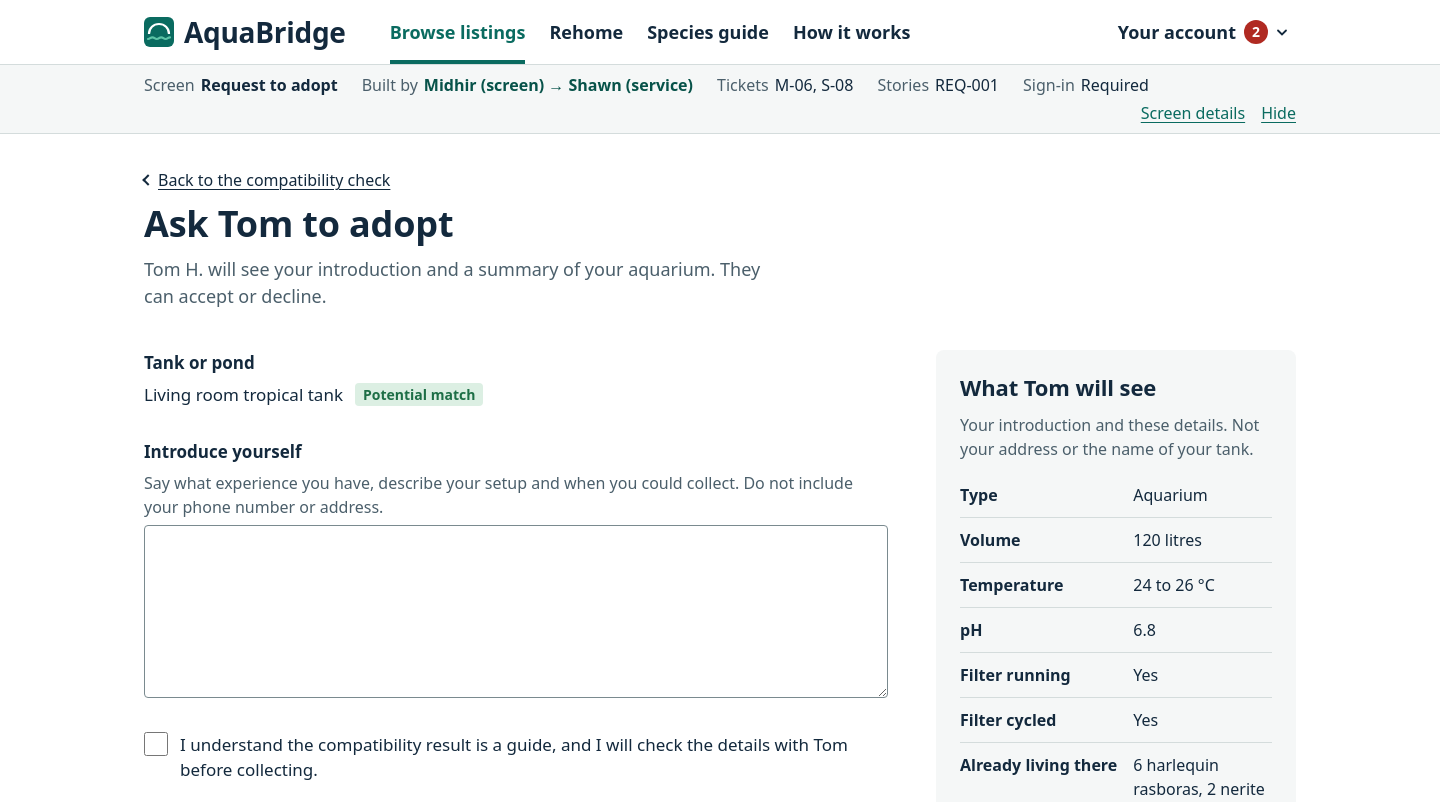
App › a valid request ends on a confirmation page with a reference
This screenshot has width=1440, height=802.
In the text box labelled "Introduce yourself": (516, 611) [144, 525, 888, 698], type "Hello Tom, I have a heated 120 litre tank ready for them."
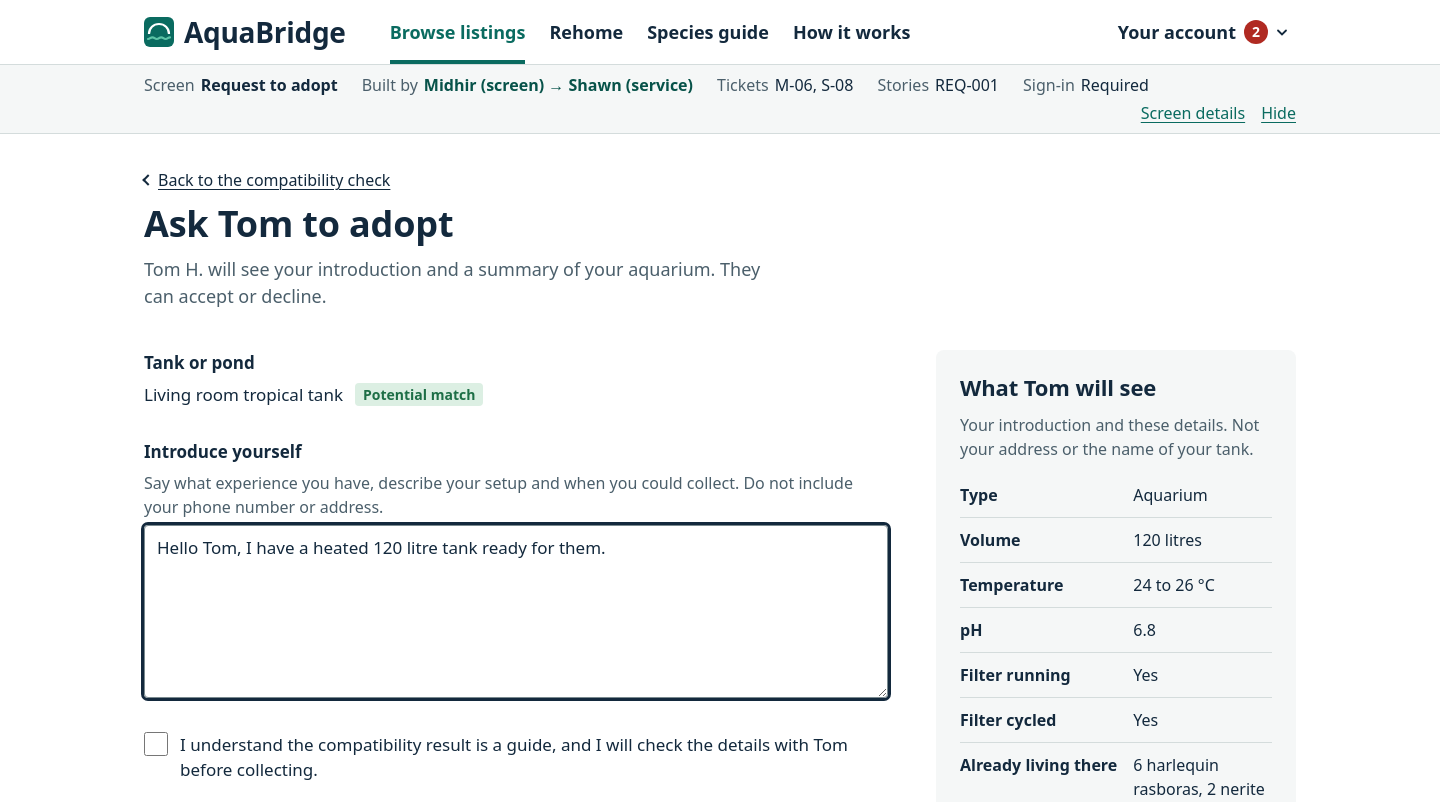
Click the checkbox labelled "I understand": (156, 744) [144, 732, 168, 756]
(page scrolled)
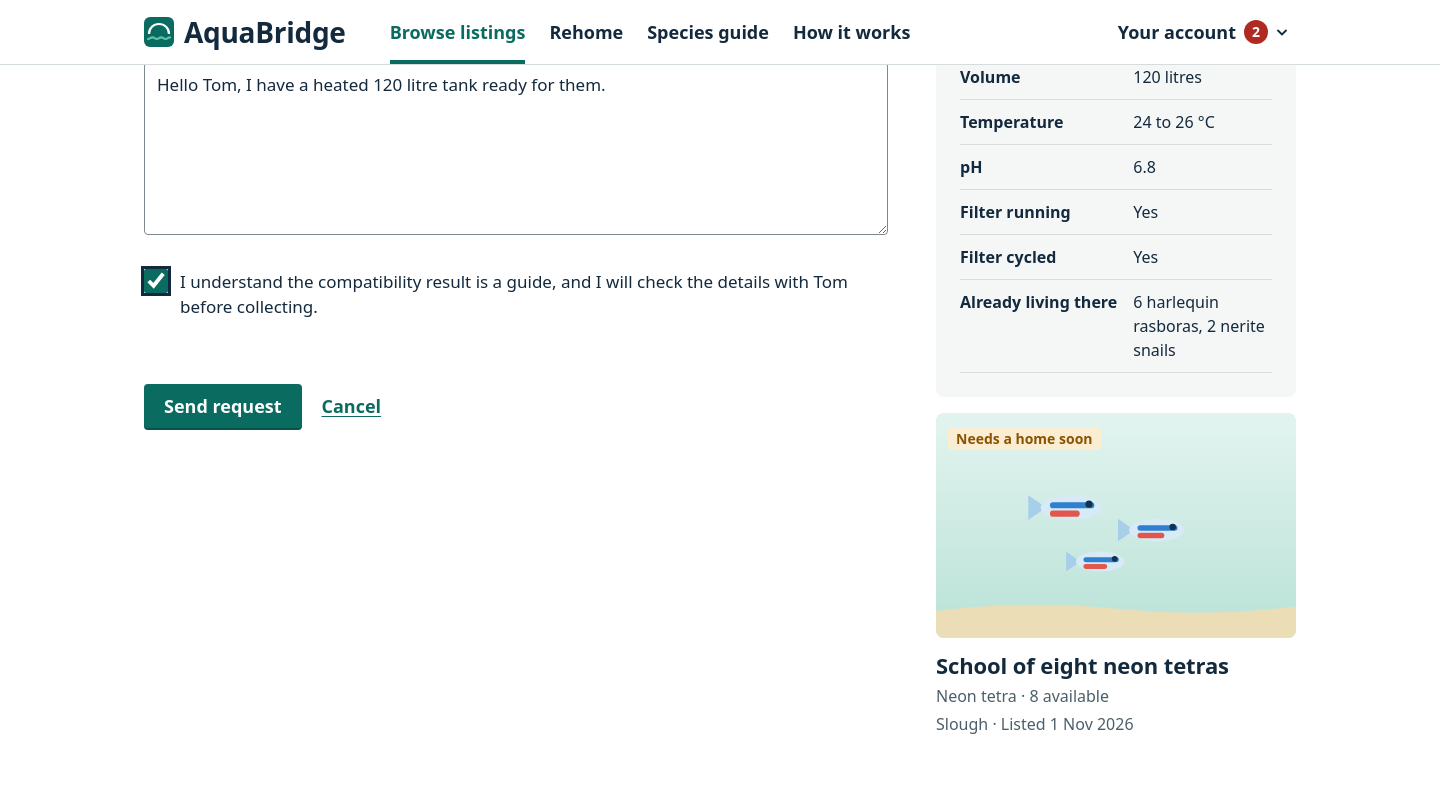
Click the button "Send request": (223, 406) [144, 384, 302, 428]
(page scrolled)
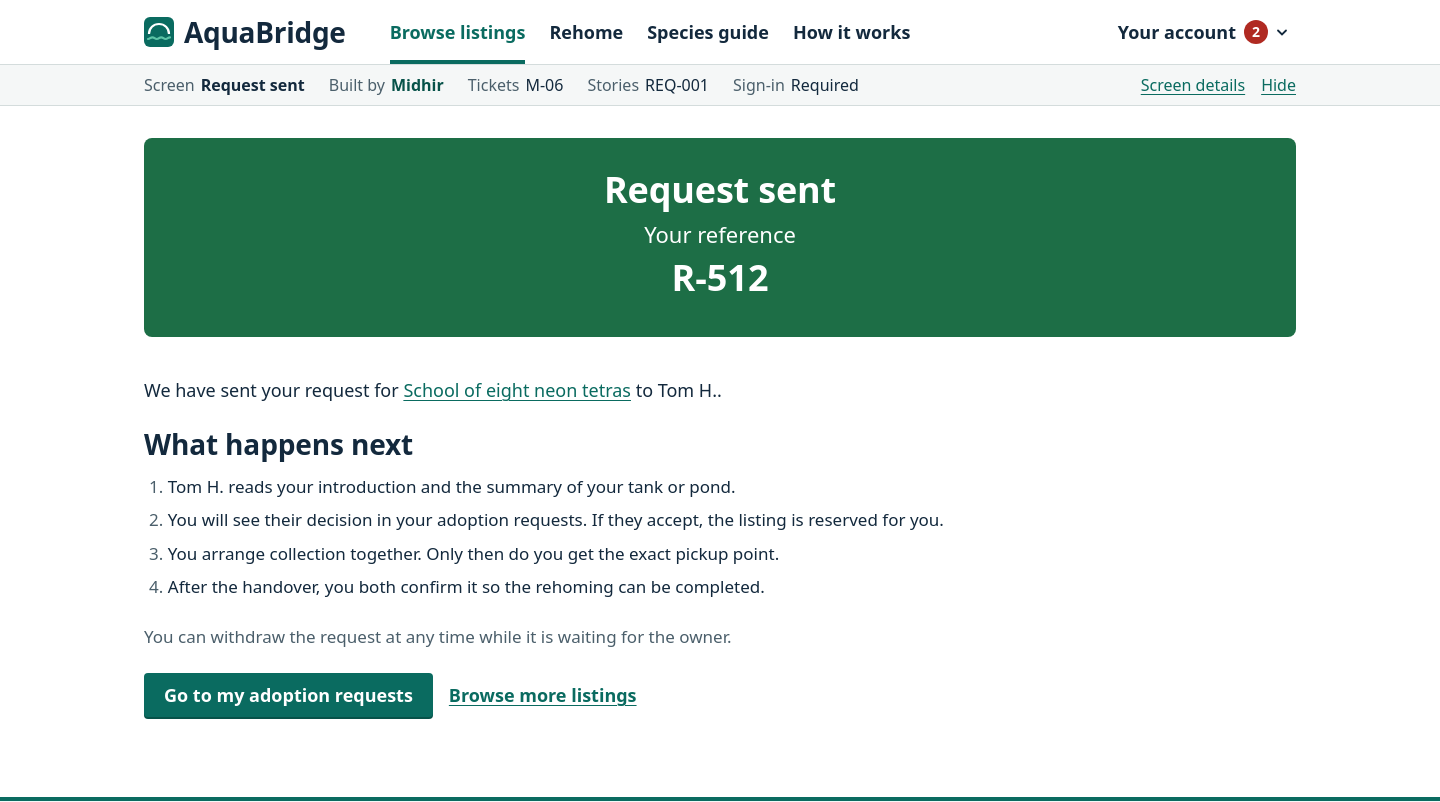
Now the heading "Request sent" is shown, box [604, 165, 836, 214]
Now the text "R-512" is shown, box [671, 253, 768, 302]
